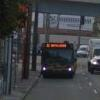Bus: (39, 39, 82, 84)
